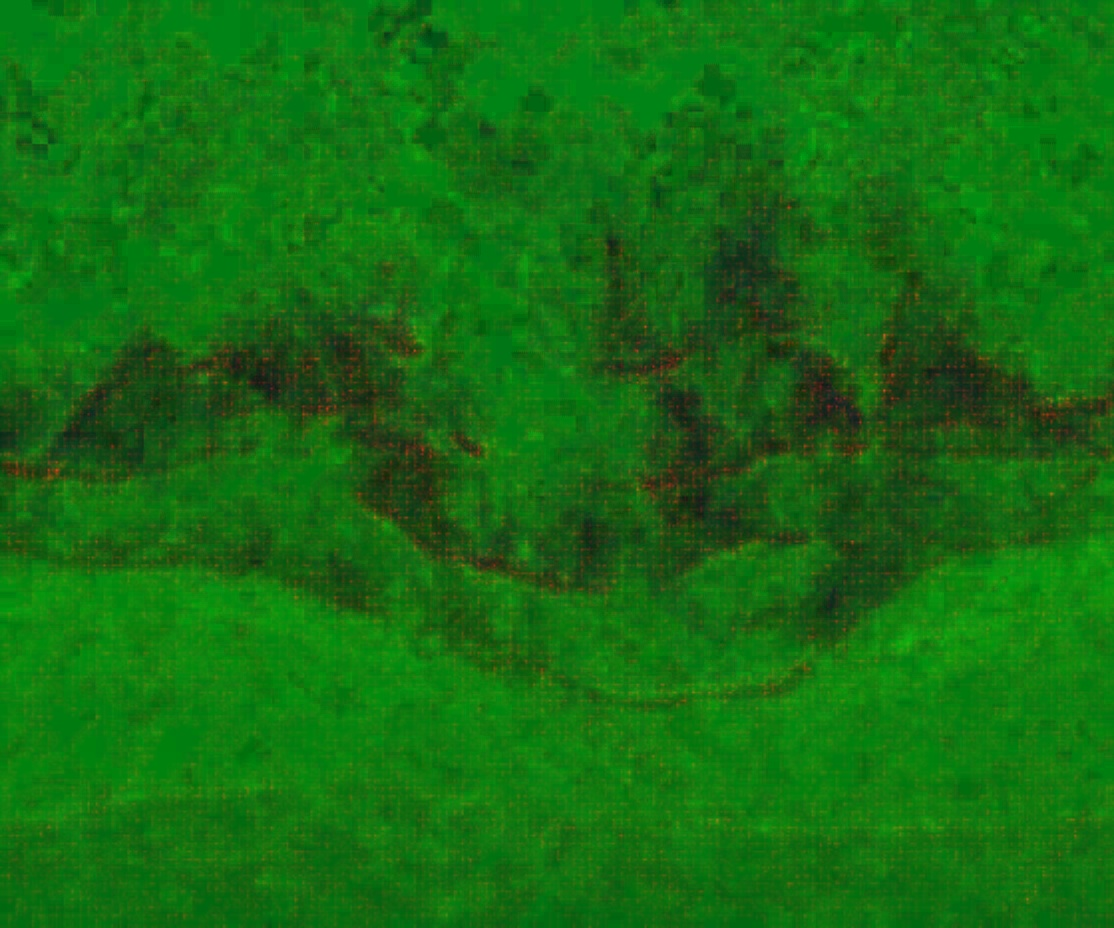rip_current: (333, 183, 717, 588)
